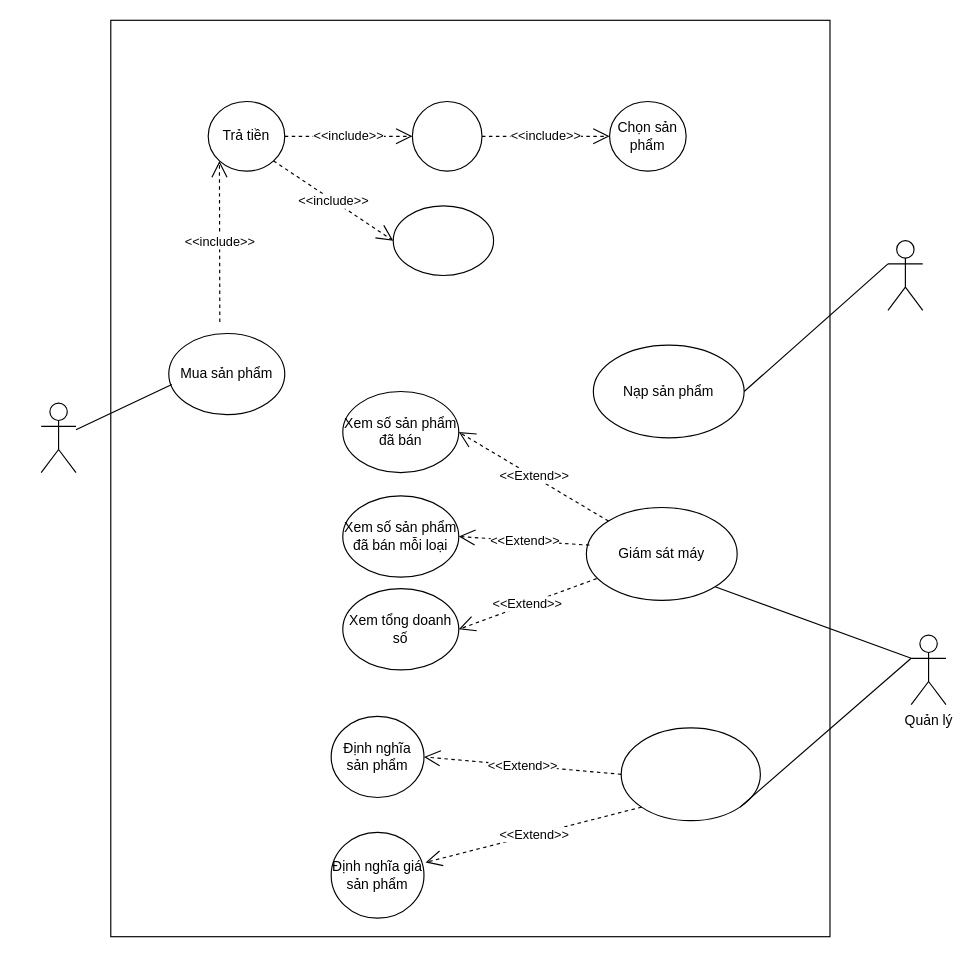
This 972x957 diagram has some shape labels left out. The shapes that lost their labels are listed below. From the top down, each one's box as (x1, y1, x2, y2) in pixels, then its label:
(411, 100, 482, 171): Nhận sản phẩm
(392, 205, 494, 276): Thanh toán bằng smartcard
(887, 240, 923, 310): Nhân viên bảo trì
(40, 402, 76, 473): Khách Hàng
(620, 727, 760, 821): Cài đặt máy
